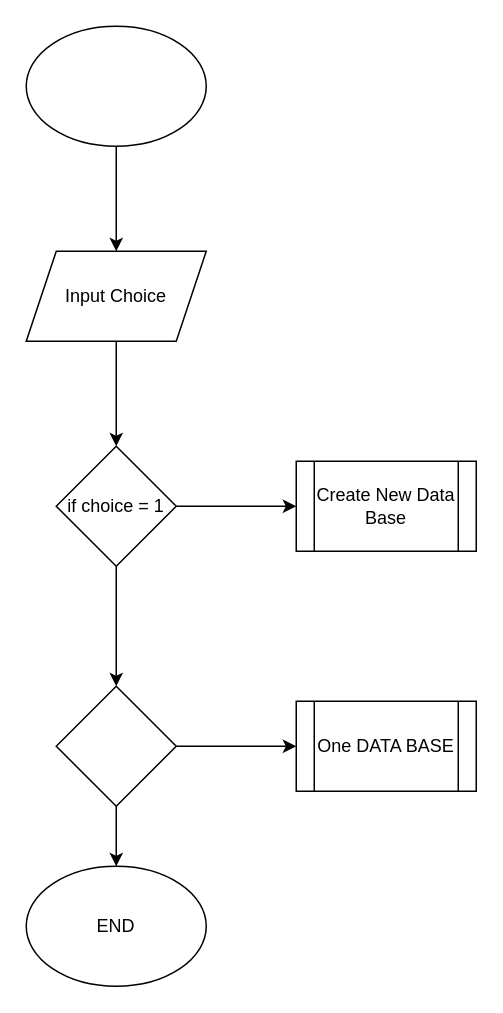
Image size: 503x1013. Some labels were removed from this diagram. Each missing label, with the centre of its shape:
if choice = 2: the point at 115,745
Start: the point at 115,85
